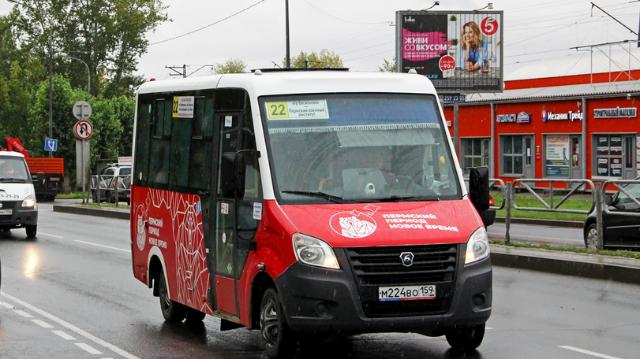non emergency car: (129, 68, 493, 359), (582, 179, 640, 253), (0, 152, 38, 236), (92, 163, 132, 205)
